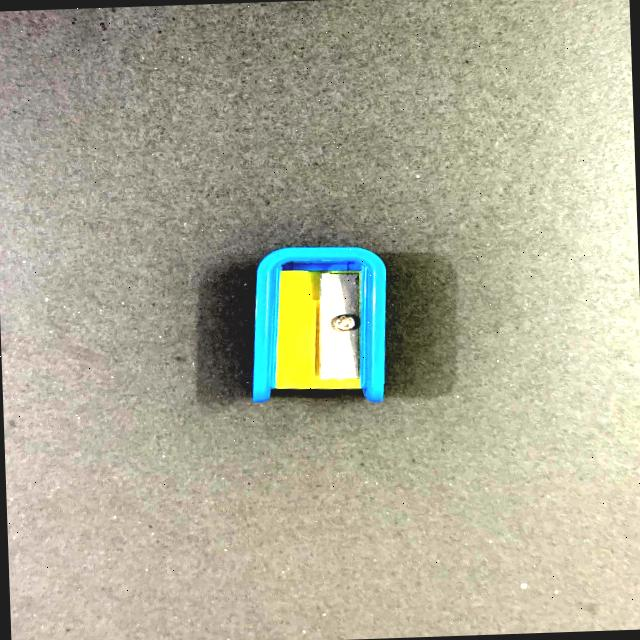Sharpner: (208, 217, 422, 436)
